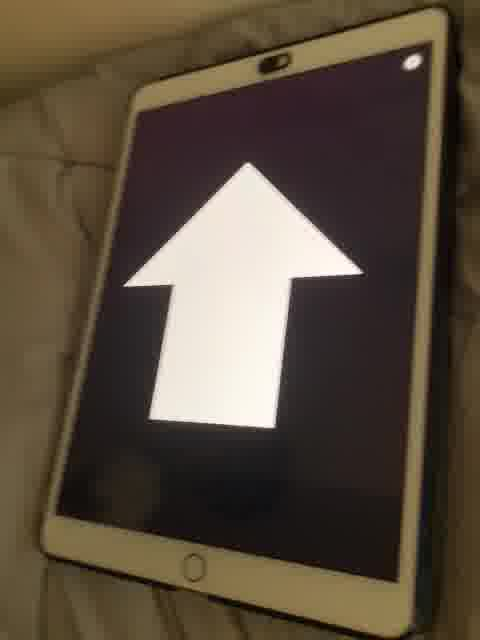up: (123, 154, 365, 433)
